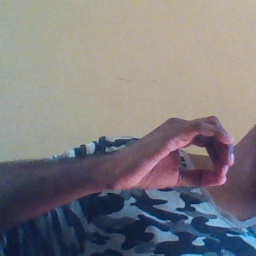O: (121, 107, 240, 204)
